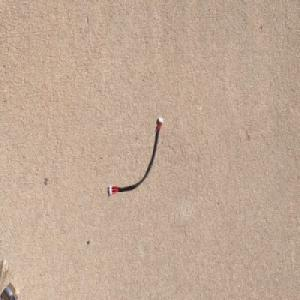Wire: (108, 116, 163, 197)
